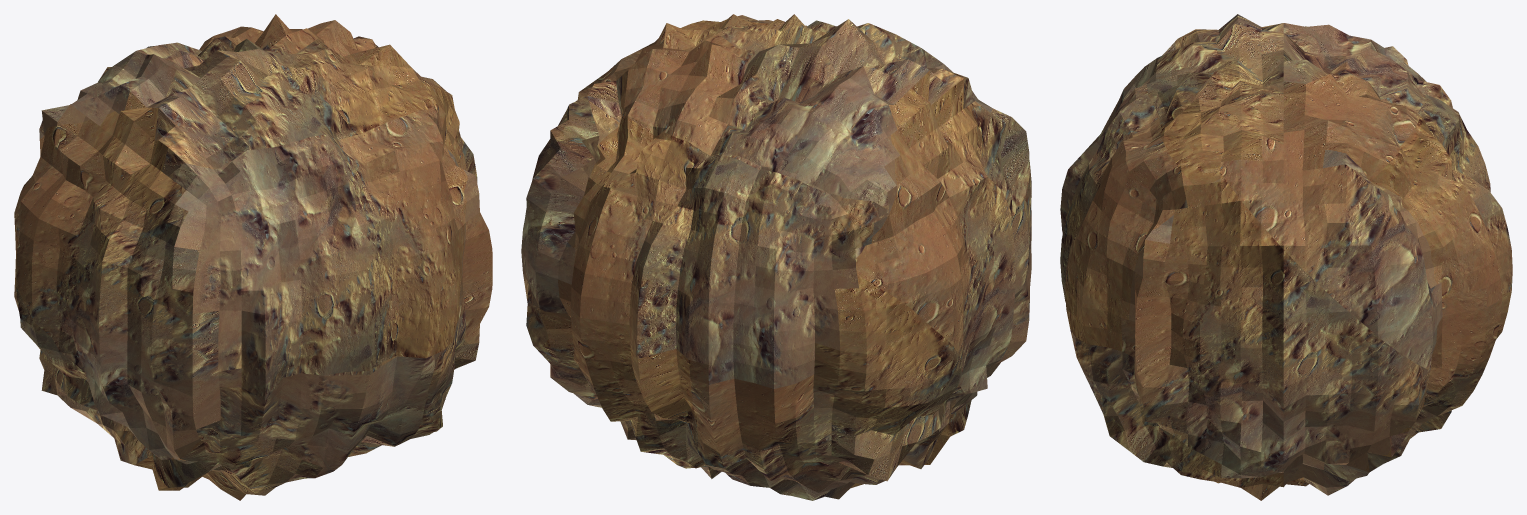
The model's file is asteroid182.obj.
3 renders of one model, left to right at view 1: azimuth 30°, elevation 25°; view 2: azimuth 150°, elevation 25°; view 3: azimuth 270°, elevation 25°, orthographic. The views are drawn at different scales.
Visible parts, largest first — view 1: Cube_Cube.002; view 2: Cube_Cube.002; view 3: Cube_Cube.002.
Part boxes in pixels (box(x1,y1,x2,y2)): Cube_Cube.002: box(14, 14, 492, 500); Cube_Cube.002: box(521, 14, 1031, 500); Cube_Cube.002: box(1060, 14, 1512, 500).
Bounding box in the file's own units: 1.82 × 1.81 × 1.71.
